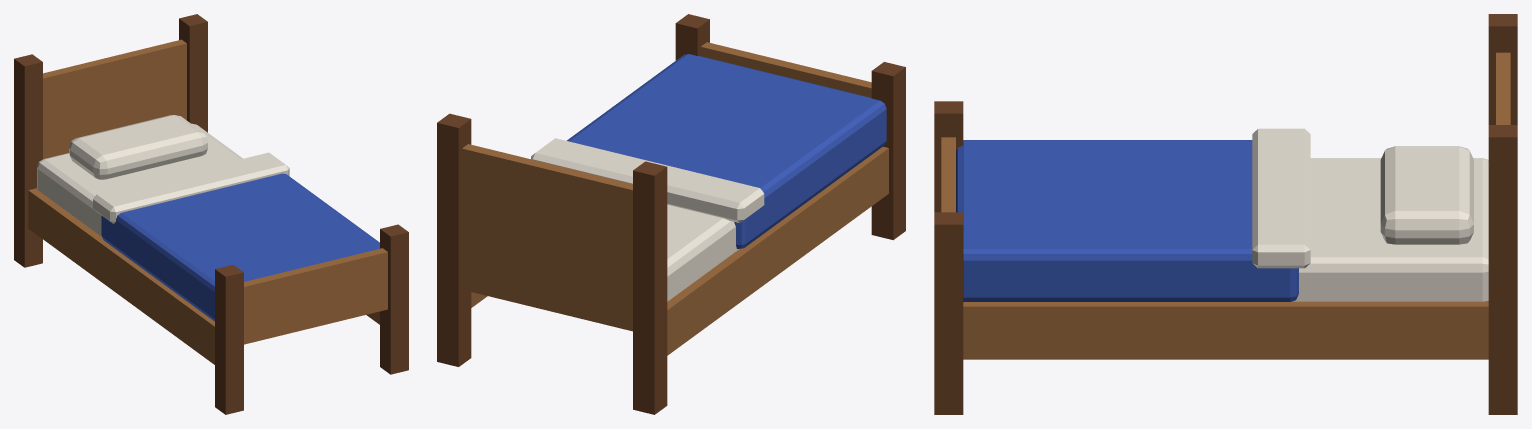
File: bed.glb
The picture shows the model from 3 angles, left to right: view 1: azimuth 30°, elevation 25°; view 2: azimuth 150°, elevation 25°; view 3: azimuth 270°, elevation 25°; orthographic projection. The views are drawn at different scales.
Parts seen in each view (by area): view 1: Bed frame, Bed blanket, Bed posts, Bed pillow, Bed mattress, Bed blanket fold; view 2: Bed frame, Bed blanket, Bed posts, Bed blanket fold, Bed mattress; view 3: Bed blanket, Bed frame, Bed posts, Bed mattress, Bed pillow, Bed blanket fold.
Boxes of the visible parts, box(x1,y1,x2,y2) form: Bed frame: box(28, 39, 387, 364); Bed blanket: box(101, 173, 379, 321); Bed posts: box(14, 14, 408, 414); Bed pillow: box(69, 115, 207, 179); Bed mattress: box(37, 123, 242, 236); Bed blanket fold: box(93, 152, 289, 223); Bed frame: box(462, 42, 888, 355); Bed blanket: box(566, 54, 886, 248); Bed posts: box(437, 14, 905, 414); Bed blanket fold: box(531, 138, 764, 223); Bed mattress: box(667, 204, 738, 301); Bed blanket: box(956, 140, 1298, 301); Bed frame: box(941, 52, 1510, 359); Bed posts: box(934, 14, 1517, 414); Bed mattress: box(1292, 158, 1488, 301); Bed pillow: box(1380, 146, 1473, 244); Bed blanket fold: box(1252, 128, 1310, 268).
Bounding box in the file's own units: 1 × 1.05 × 2.
